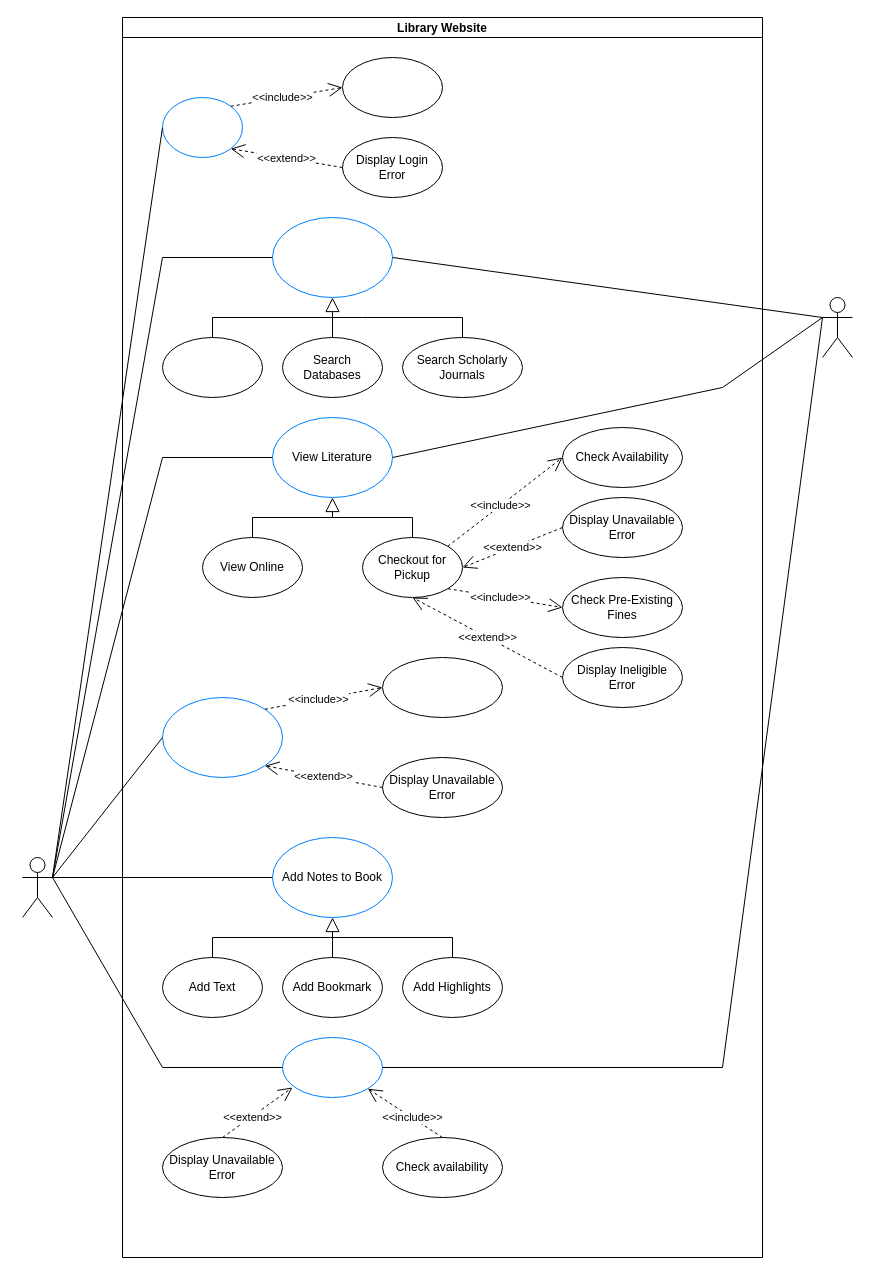
This 873x1275 diagram has some shape labels left out. Each missing label, with the centre of its shape:
Add Book to Collection: the point at 222,737
LIbrary: the point at 837,327
Log in: the point at 202,127
Reserve Study Room: the point at 332,1067
Search Library Catalog: the point at 212,367
Search Repository: the point at 332,257
Student: the point at 37,887
Verify Credentials: the point at 392,87
Verify in Library Catalog: the point at 442,687
